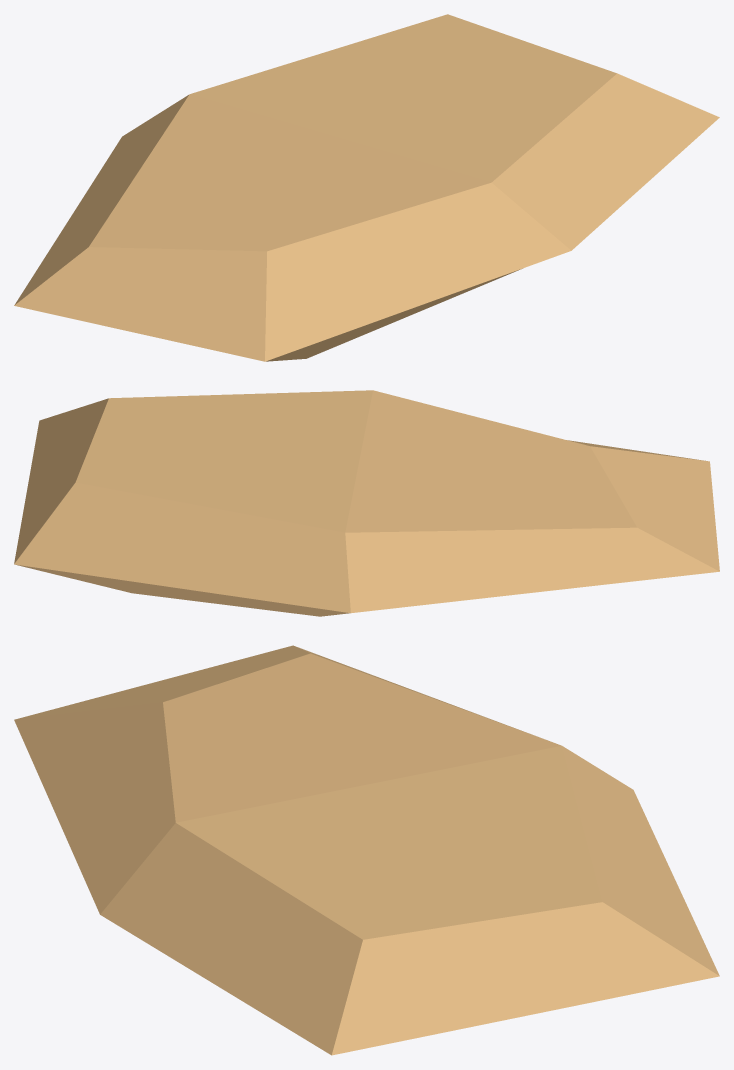
Rendered from Stone_04_Var_03.fbx.
3 renders of one model, top to bottom at view 1: azimuth 30°, elevation 25°; view 2: azimuth 150°, elevation 25°; view 3: azimuth 270°, elevation 25°, orthographic. The views are drawn at different scales.
Parts seen in each view (by area): view 1: Stone_04_Var_03; view 2: Stone_04_Var_03; view 3: Stone_04_Var_03.
Boxes of the visible parts, <box> form: Stone_04_Var_03: <box>14,14,719,361</box>; Stone_04_Var_03: <box>14,390,719,616</box>; Stone_04_Var_03: <box>14,645,719,1055</box>.
Size of the model in its own units: 4.11 by 0.6921 by 5.65.
